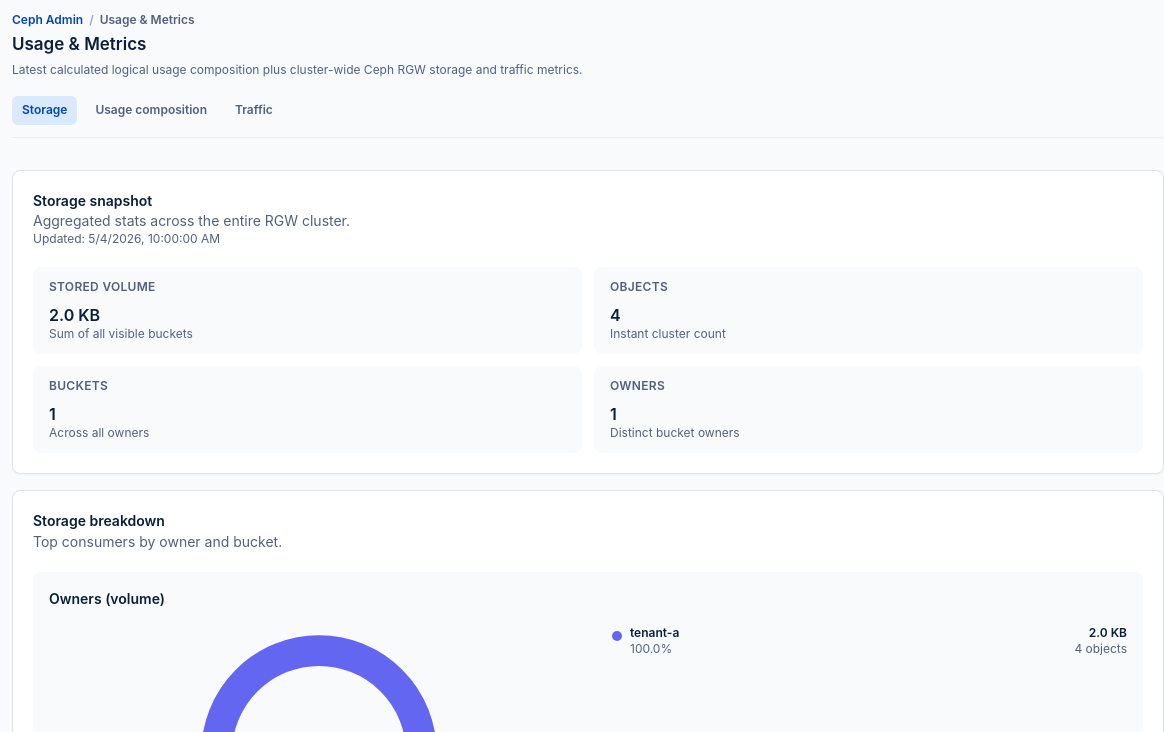
Test: CephAdminMetricsPage › keeps disabled usage logs inside the traffic card
Expected: the heading "Storage breakdown" is shown, [33,512,165,529]
Expected: the text "Usage logs are disabled for this endpoint." is not shown
Click the tab "Traffic" at (254, 110), box [225,96,283,124]
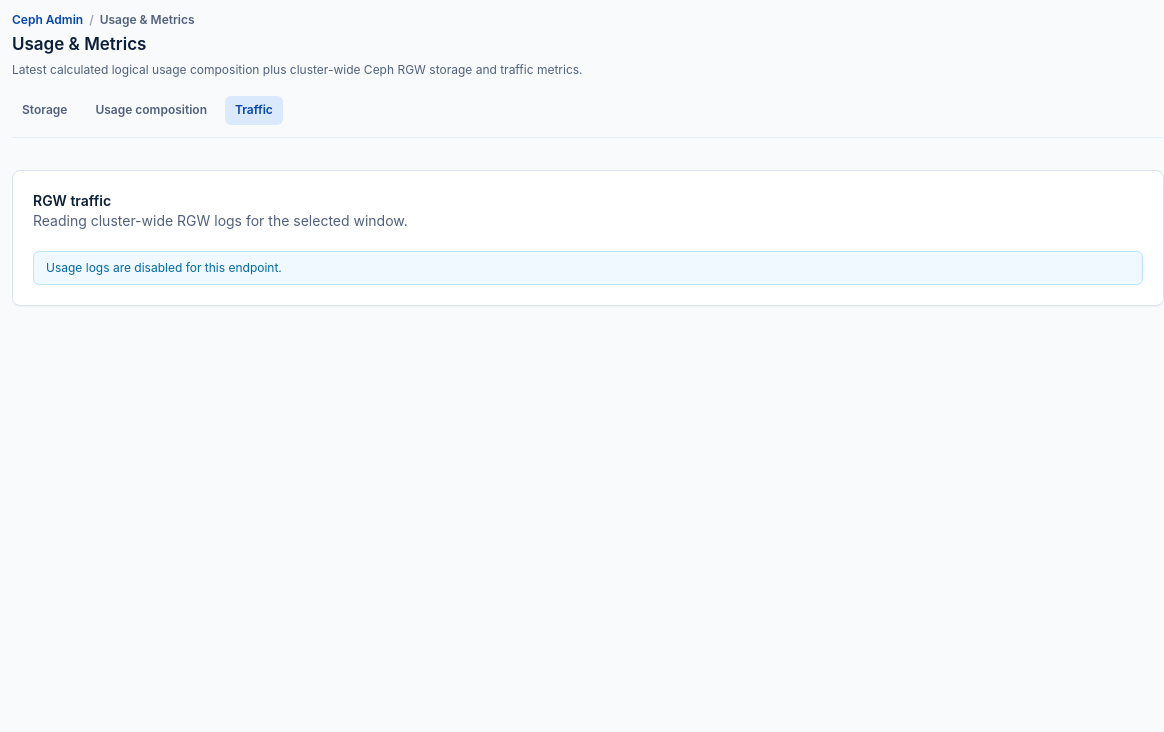
Now the text "Usage logs are disabled for this endpoint." is shown, box [46,260,282,275]
Now the heading "RGW traffic" is shown, box [33,192,111,208]
